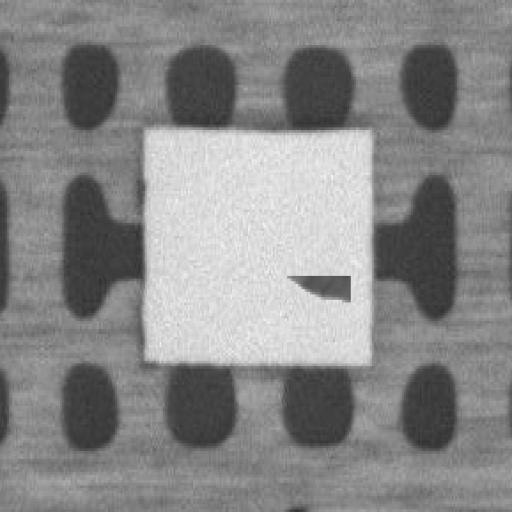DIE_INK: (289, 273, 349, 316)
